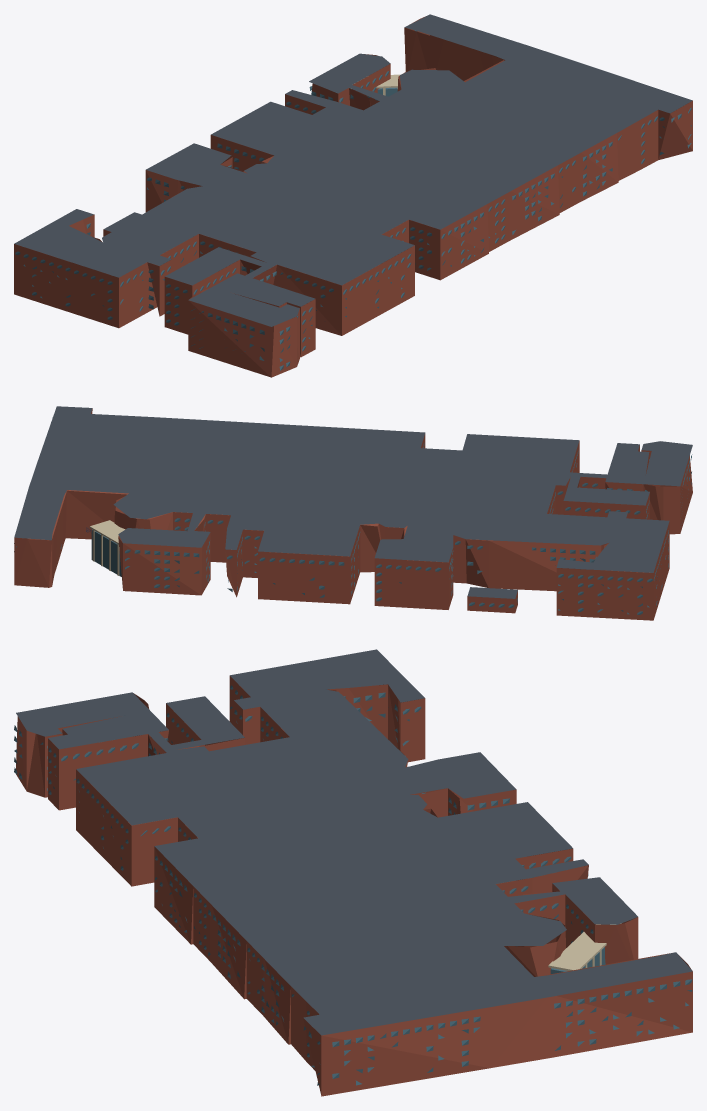
File: olvg-oost.lod1.glb
3 renders of one model, top to bottom at view 1: azimuth 30°, elevation 25°; view 2: azimuth 150°, elevation 25°; view 3: azimuth 270°, elevation 25°, orthographic. The views are drawn at different scales.
Parts seen in each view (by area): view 1: olvg-oost; view 2: olvg-oost; view 3: olvg-oost.
Boxes of the visible parts, x1,y1,x2,y2 form: olvg-oost: [14, 14, 692, 377]; olvg-oost: [14, 406, 692, 620]; olvg-oost: [14, 649, 692, 1096].
Bounding box in the file's own units: 258 × 19.04 × 192.
